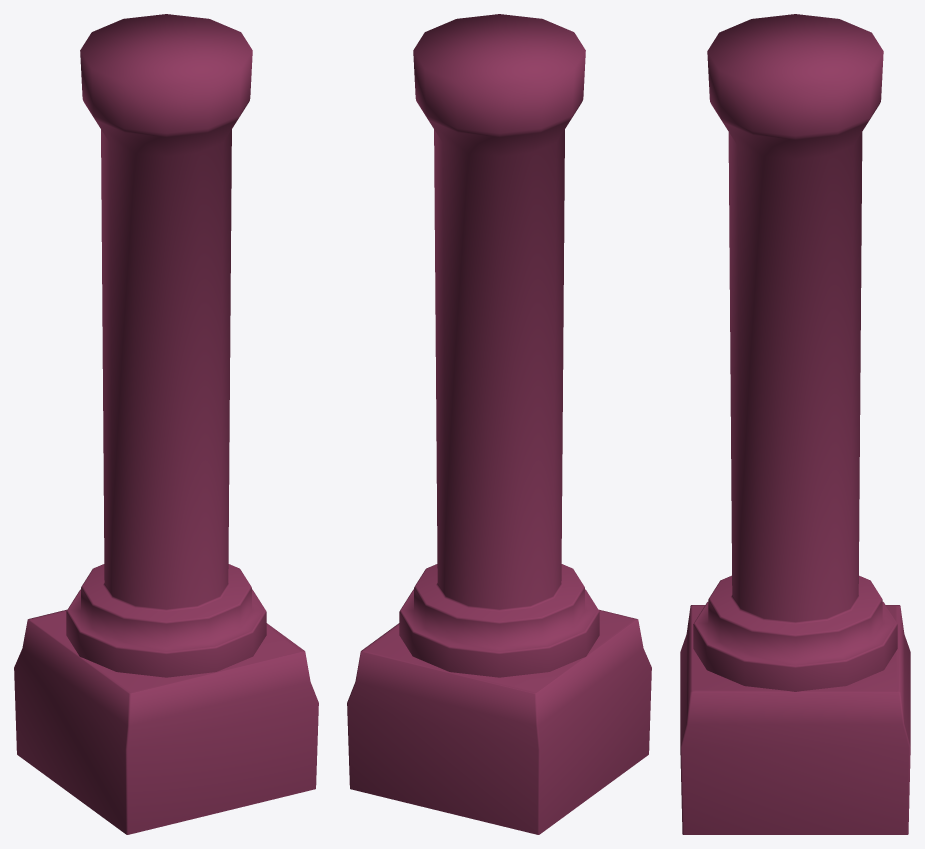
3 views of the same model, side by side, from view 1: azimuth 30°, elevation 25°; view 2: azimuth 150°, elevation 25°; view 3: azimuth 270°, elevation 25° (orthographic). The views are drawn at different scales.
Parts seen in each view (by area): view 1: 기둥1_low; view 2: 기둥1_low; view 3: 기둥1_low.
Boxes of the visible parts, box(x1,y1,x2,y2) form: 기둥1_low: box(14, 14, 318, 834); 기둥1_low: box(347, 14, 651, 834); 기둥1_low: box(680, 14, 910, 834).
Size of the model in its own units: 125 by 448 by 127.
